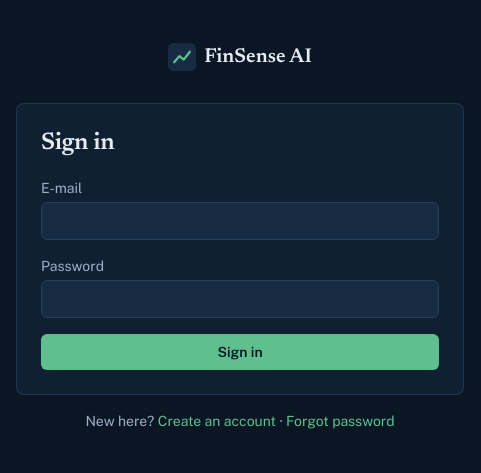
Test case: authentication UI › logs in with the entered credentials and shows server errors
The width and height of the screenshot is (481, 473).
Step 1. Type "demo@example.com" into the field labelled "E-mail" → (240, 221), box [41, 202, 439, 240]
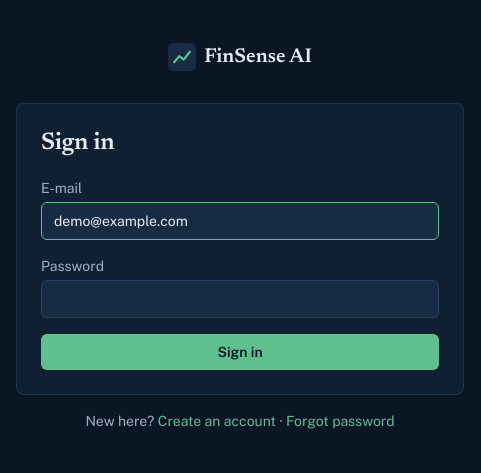
Step 2. Type "wrong-Password1" into the password field labelled "Password" → (240, 299), box [41, 280, 439, 318]
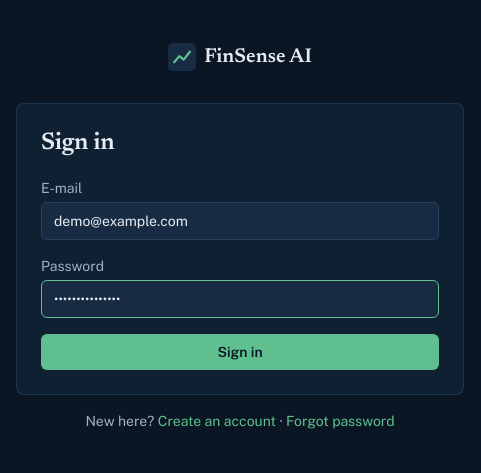
Step 3. Click the button "Sign in" → (240, 352), box [41, 334, 439, 370]
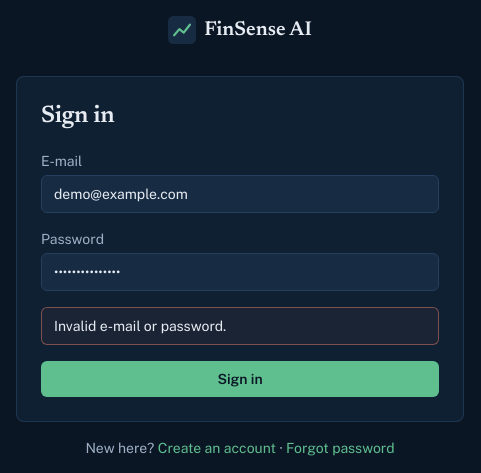
Now the text "Invalid e-mail or password." is shown, box [41, 307, 439, 345]
